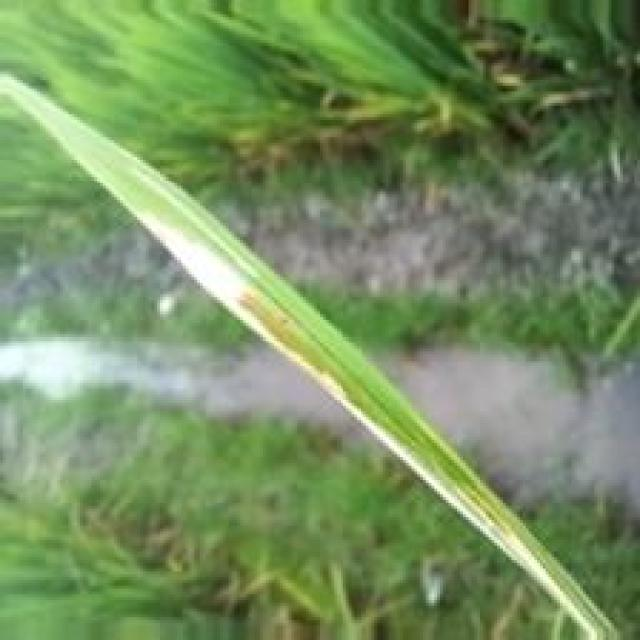Rice_Hispa: (118, 200, 610, 640)
